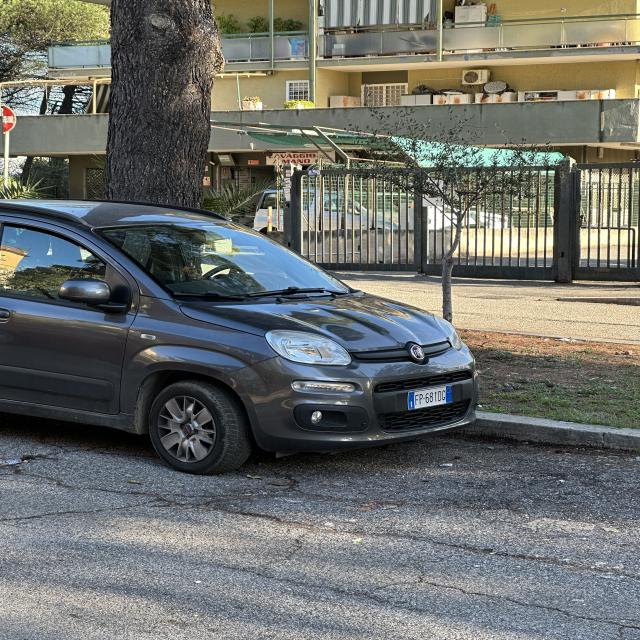number_plate: (408, 386, 452, 409)
